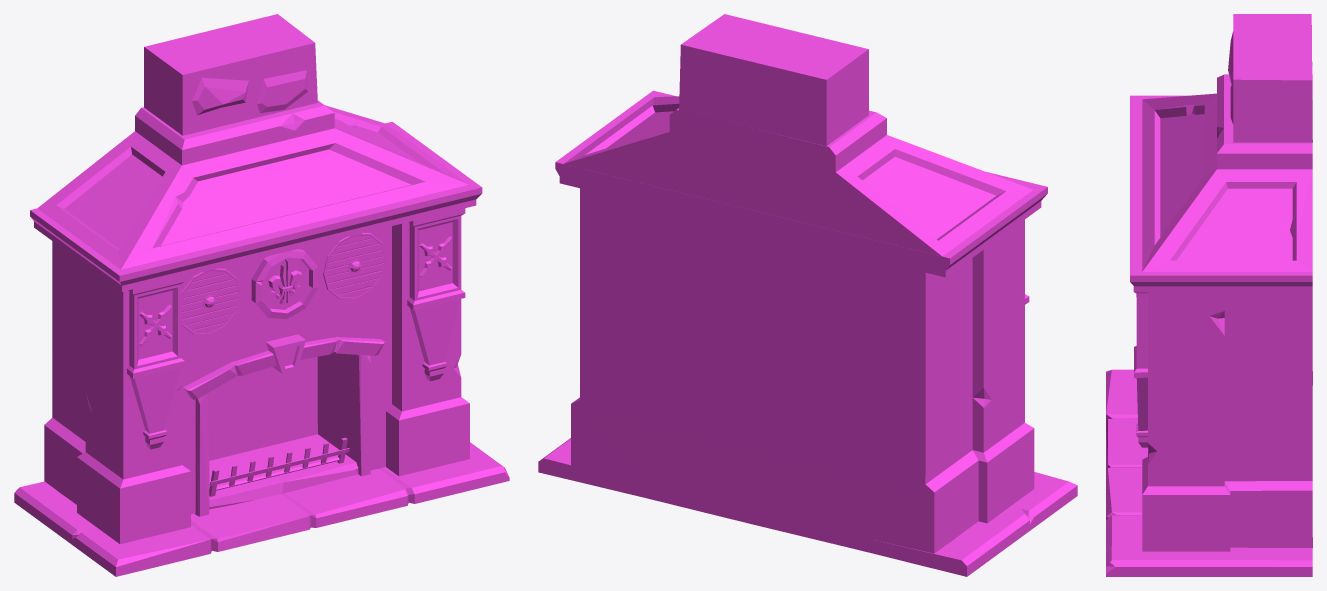
Rendered from SM_Fireplace_Royale_C_Fantasy.fbx.
3 views of the same model, side by side, from view 1: azimuth 30°, elevation 25°; view 2: azimuth 150°, elevation 25°; view 3: azimuth 270°, elevation 25° (orthographic). The views are drawn at different scales.
Visible parts, largest first — view 1: SM_Fireplace_Royale_C_Fantasy; view 2: SM_Fireplace_Royale_C_Fantasy; view 3: SM_Fireplace_Royale_C_Fantasy.
Boxes of the visible parts, x1,y1,x2,y2 form: SM_Fireplace_Royale_C_Fantasy: (14, 14, 509, 576); SM_Fireplace_Royale_C_Fantasy: (538, 14, 1077, 576); SM_Fireplace_Royale_C_Fantasy: (1106, 14, 1312, 576).
Bounding box in the file's own units: 2.91 × 3 × 1.3.
